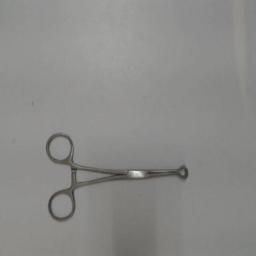Babcock Tissue Forceps: (42, 128, 190, 224)
